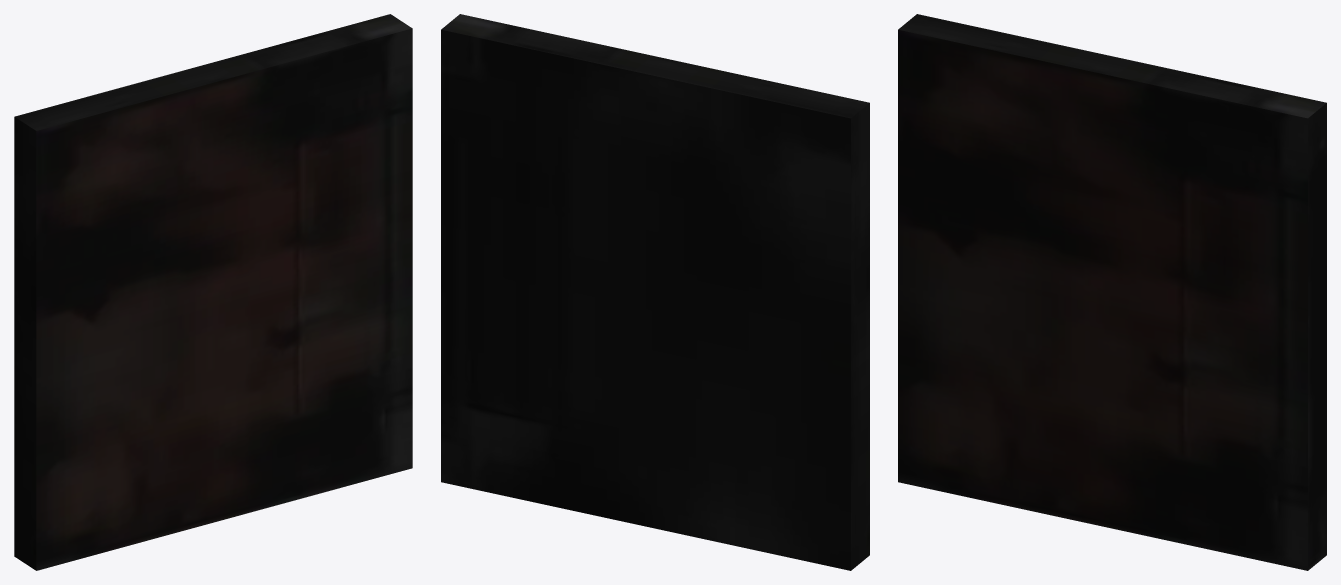
File: seat__seat_pad_board.glb
3 renders of one model, left to right at view 1: azimuth 30°, elevation 25°; view 2: azimuth 150°, elevation 25°; view 3: azimuth 330°, elevation 25°, orthographic. The views are drawn at different scales.
Visible parts, largest first — view 1: world; view 2: world; view 3: world.
Part boxes in pixels (x1=…): world: x1=14, y1=14, x2=412, y2=570; world: x1=441, y1=14, x2=869, y2=570; world: x1=898, y1=14, x2=1326, y2=570.
Size of the model in its own units: 0.2769 by 0.2992 by 0.0388.
Materials: 1 (1 with a texture image).
